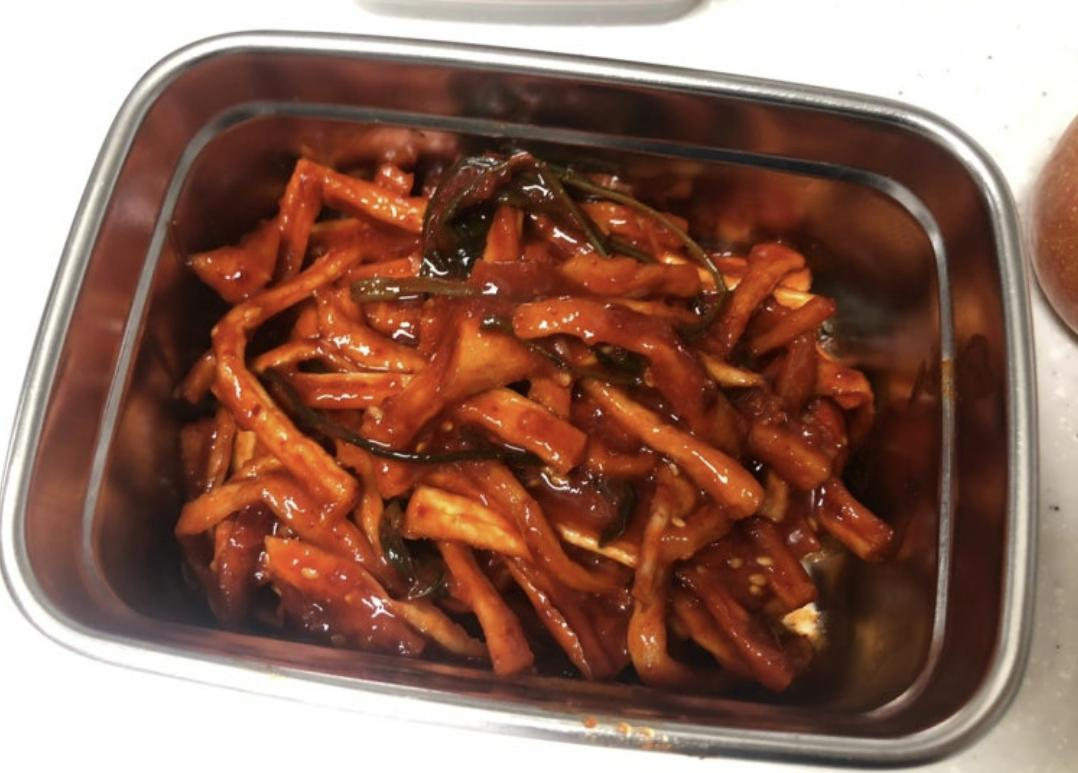Lunch Box: (0, 33, 1036, 766)
